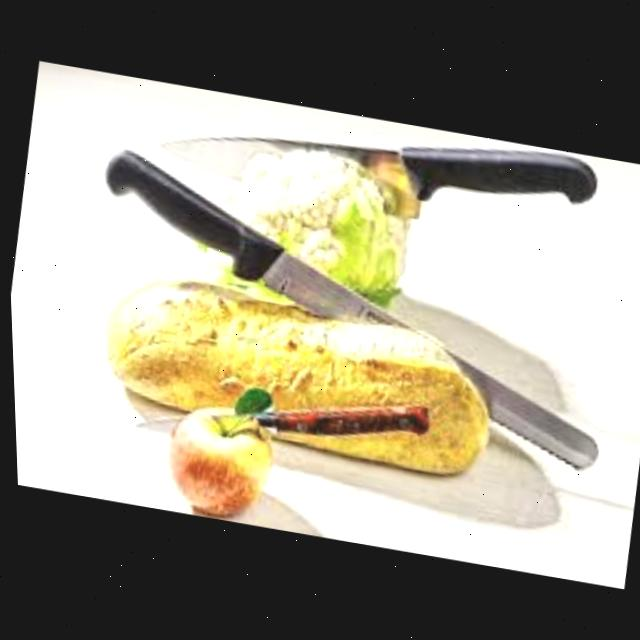Knife: (71, 143, 633, 470), (152, 82, 604, 240)
